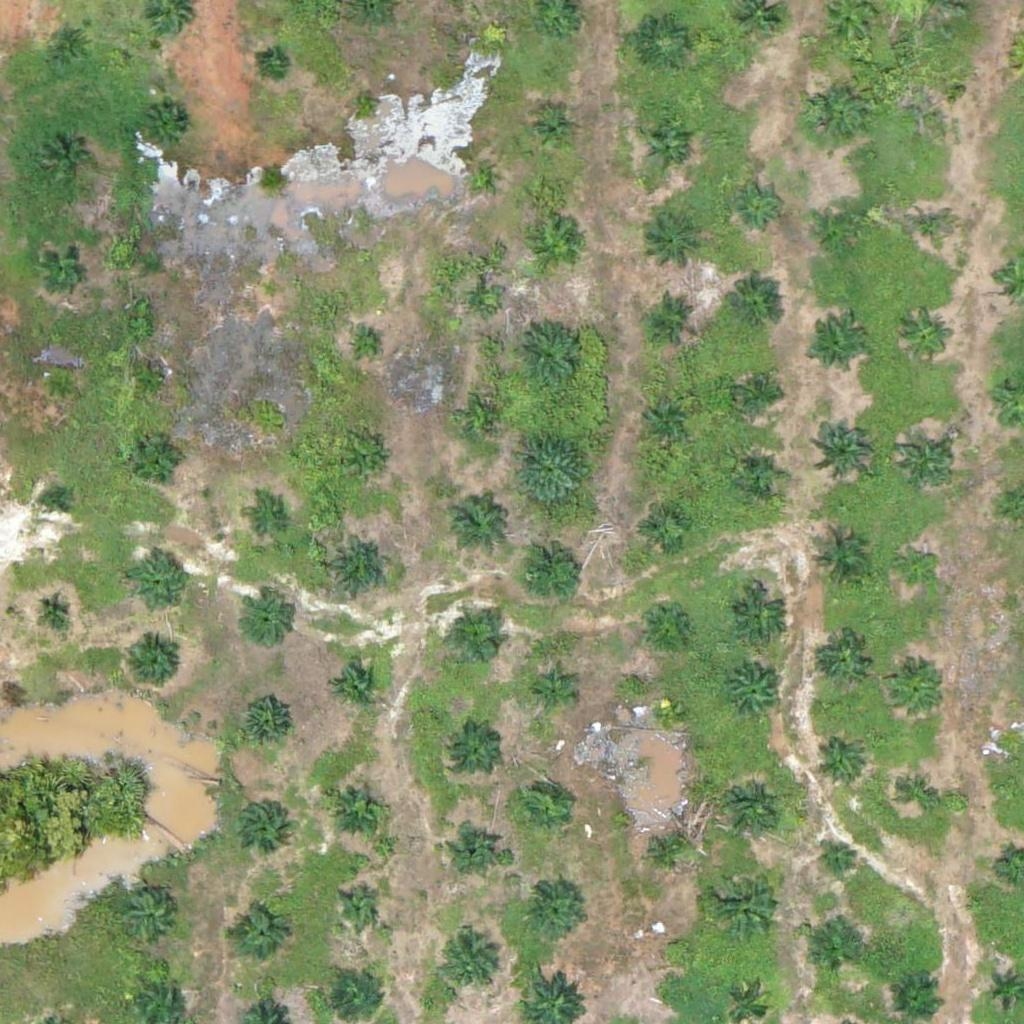Kelapa_Sawit: (510, 317, 585, 393), (514, 535, 589, 611), (709, 861, 784, 937), (514, 431, 589, 507), (443, 490, 506, 553), (728, 586, 791, 649), (328, 536, 391, 599), (644, 210, 707, 273), (802, 81, 865, 144), (723, 279, 786, 342), (807, 317, 869, 380), (440, 933, 502, 996), (720, 778, 782, 841), (808, 530, 870, 593), (895, 431, 957, 494), (811, 414, 873, 477), (519, 880, 581, 943), (122, 633, 184, 696), (326, 775, 388, 838), (126, 551, 188, 614), (725, 665, 787, 727), (901, 310, 951, 361), (333, 972, 383, 1023), (231, 909, 281, 960), (242, 595, 292, 646), (125, 894, 175, 945), (239, 696, 289, 747), (330, 660, 380, 711), (132, 432, 182, 483), (638, 18, 688, 69), (905, 204, 955, 255), (817, 202, 867, 253), (735, 179, 785, 230), (643, 121, 693, 172), (451, 821, 501, 871), (454, 615, 504, 665), (450, 725, 500, 775), (640, 598, 690, 648), (639, 502, 689, 552), (821, 633, 871, 683), (891, 665, 941, 715), (804, 928, 854, 978), (517, 781, 567, 831), (236, 799, 286, 849), (532, 223, 582, 273), (644, 824, 694, 874), (733, 368, 783, 418), (735, 452, 785, 502), (641, 388, 691, 438), (646, 293, 696, 343), (528, 106, 578, 156), (816, 737, 866, 787), (143, 103, 193, 153), (40, 242, 90, 292), (40, 135, 90, 185), (47, 21, 97, 71), (532, 671, 570, 709), (245, 501, 283, 539), (819, 839, 857, 877), (896, 550, 934, 588), (900, 775, 938, 813), (350, 444, 387, 482), (985, 971, 1022, 1009), (339, 888, 376, 926), (916, 79, 953, 117), (37, 592, 74, 630), (41, 368, 79, 405), (134, 362, 171, 400), (260, 52, 285, 78), (472, 408, 497, 434), (465, 163, 490, 188), (470, 291, 495, 316), (353, 334, 378, 359), (353, 90, 378, 115), (653, 699, 678, 724), (660, 934, 685, 959), (43, 489, 68, 514), (259, 279, 284, 304)
